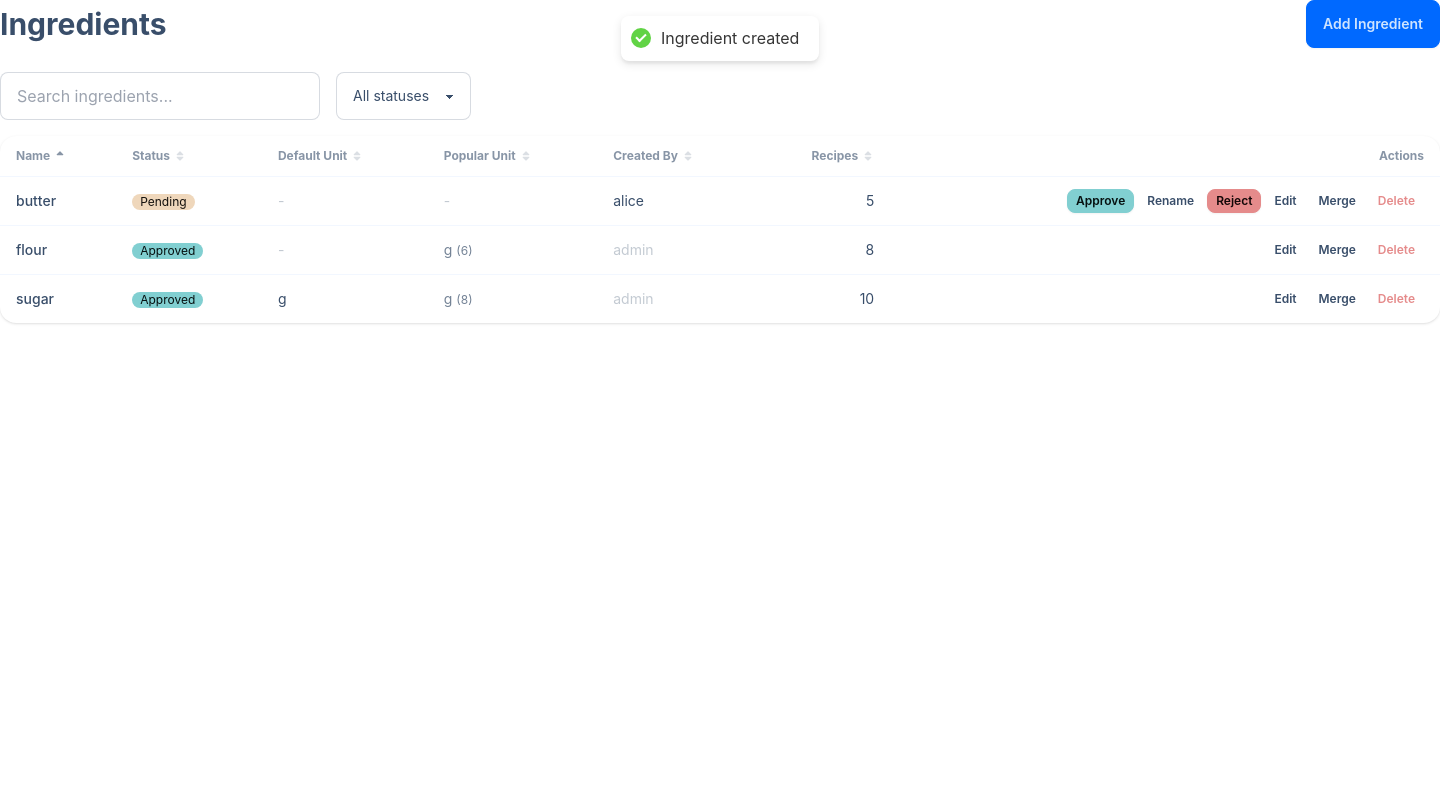
Scenario: AdminIngredientsPage › should delete an ingredient after confirmation
This screenshot has width=1440, height=810.
Check: the text "sugar" is shown, box [0, 274, 116, 323]
Click the button "Delete" in the row of "butter" at (1396, 201), box [1369, 189, 1424, 213]
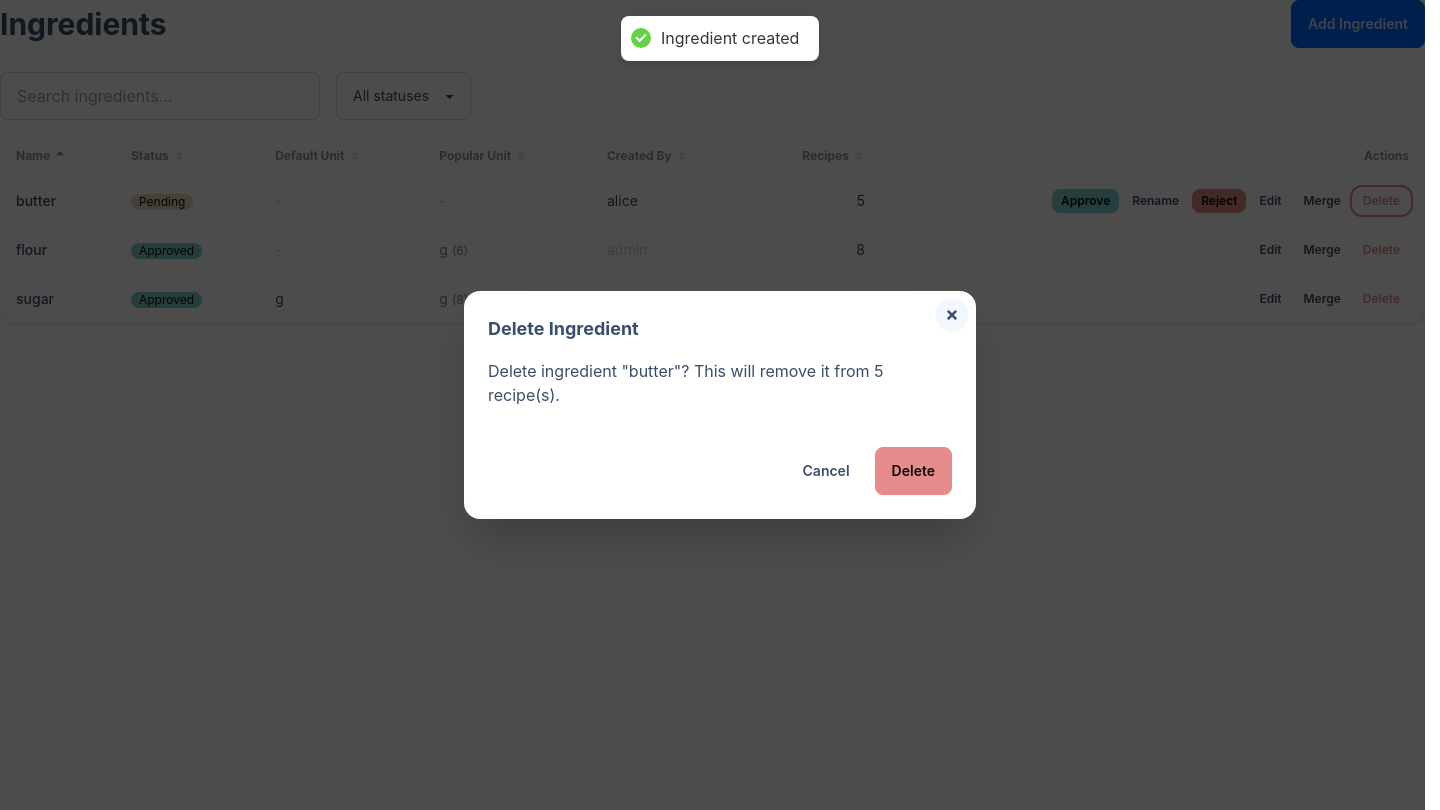
Check: the text "Delete ingredient" is shown, box [488, 361, 884, 405]
Click the button "Delete" at (913, 471), box [875, 447, 952, 495]
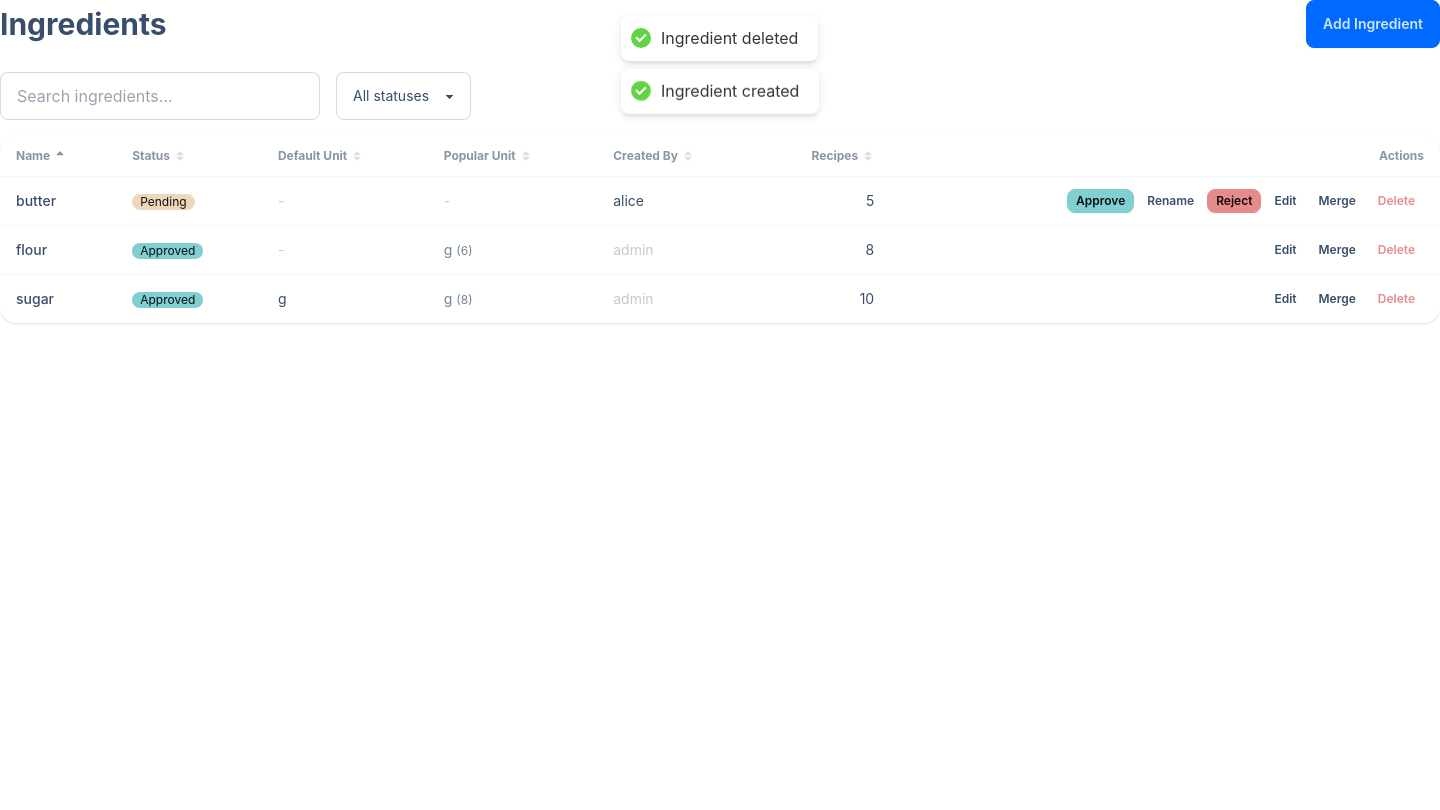
Check: the text "Ingredient deleted" is shown, box [661, 28, 799, 49]
